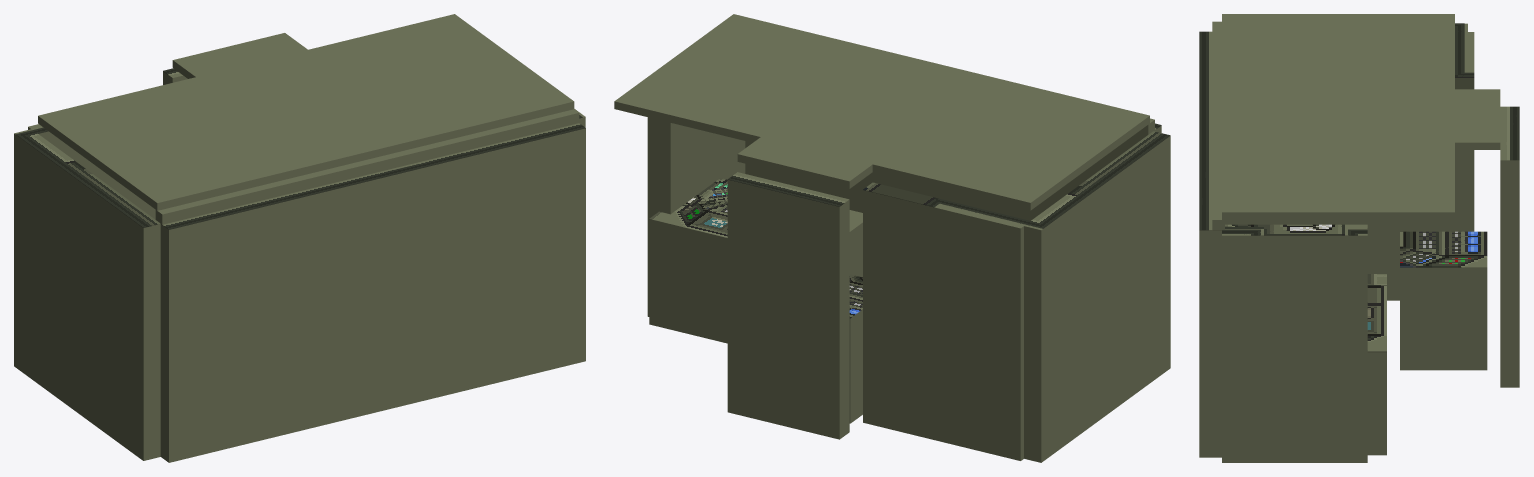
Rendered from CMU3DInteriorVehicleSPPTankChassisAlt.glb.
3 renders of one model, left to right at view 1: azimuth 30°, elevation 25°; view 2: azimuth 150°, elevation 25°; view 3: azimuth 270°, elevation 25°, orthographic. The views are drawn at different scales.
Visible parts, largest first — view 1: stepped hull bulkhead (×3), cabin roof, overhead structural rail, stepped hull bulkhead source finish (×2), raised station roof; view 2: stepped hull bulkhead (×5), cabin roof, armored equipment console (×2), stepped hull bulkhead source finish (×3), raised station roof, armored equipment console source finish; view 3: cabin roof, stepped hull bulkhead (×5), armored equipment console (×3), stepped hull bulkhead source finish (×4), armored equipment console source finish (×2), raised station roof, overhead structural rail.
Boxes of the visible parts, left/top/right/bottom form: stepped hull bulkhead (×3): left=14, top=124, right=585, bottom=462; cabin roof: left=38, top=14, right=574, bottom=210; overhead structural rail: left=155, top=109, right=579, bottom=224; stepped hull bulkhead source finish (×2): left=16, top=123, right=585, bottom=229; raised station roof: left=172, top=33, right=307, bottom=78; stepped hull bulkhead (×5): left=647, top=117, right=1170, bottom=462; cabin roof: left=614, top=14, right=1149, bottom=210; armored equipment console (×2): left=649, top=210, right=862, bottom=423; stepped hull bulkhead source finish (×3): left=728, top=131, right=1170, bottom=228; raised station roof: left=737, top=137, right=872, bottom=188; armored equipment console source finish: left=649, top=178, right=727, bottom=238; cabin roof: left=1222, top=14, right=1454, bottom=219; stepped hull bulkhead (×5): left=1199, top=23, right=1519, bottom=462; armored equipment console (×3): left=1312, top=220, right=1487, bottom=455; stepped hull bulkhead source finish (×4): left=1199, top=31, right=1519, bottom=235; armored equipment console source finish (×2): left=1367, top=231, right=1487, bottom=352; raised station roof: left=1455, top=89, right=1500, bottom=149; overhead structural rail: left=1212, top=21, right=1224, bottom=229.
Bounding box in the file's own units: 4.84 × 2.61 × 3.09.
9 materials, 8 textured.
